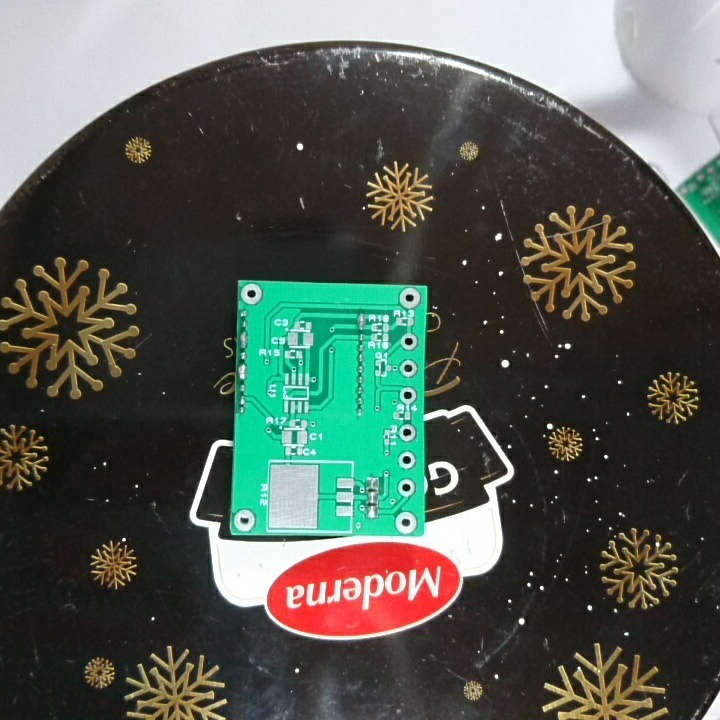F: (231, 506, 257, 534), (239, 280, 265, 306), (393, 510, 418, 536), (397, 286, 422, 311), (396, 447, 417, 474), (397, 421, 419, 446), (396, 475, 417, 499), (398, 357, 419, 380), (398, 331, 420, 352), (398, 384, 419, 406)
P: (355, 309, 367, 332), (235, 363, 249, 382), (238, 331, 250, 349)
